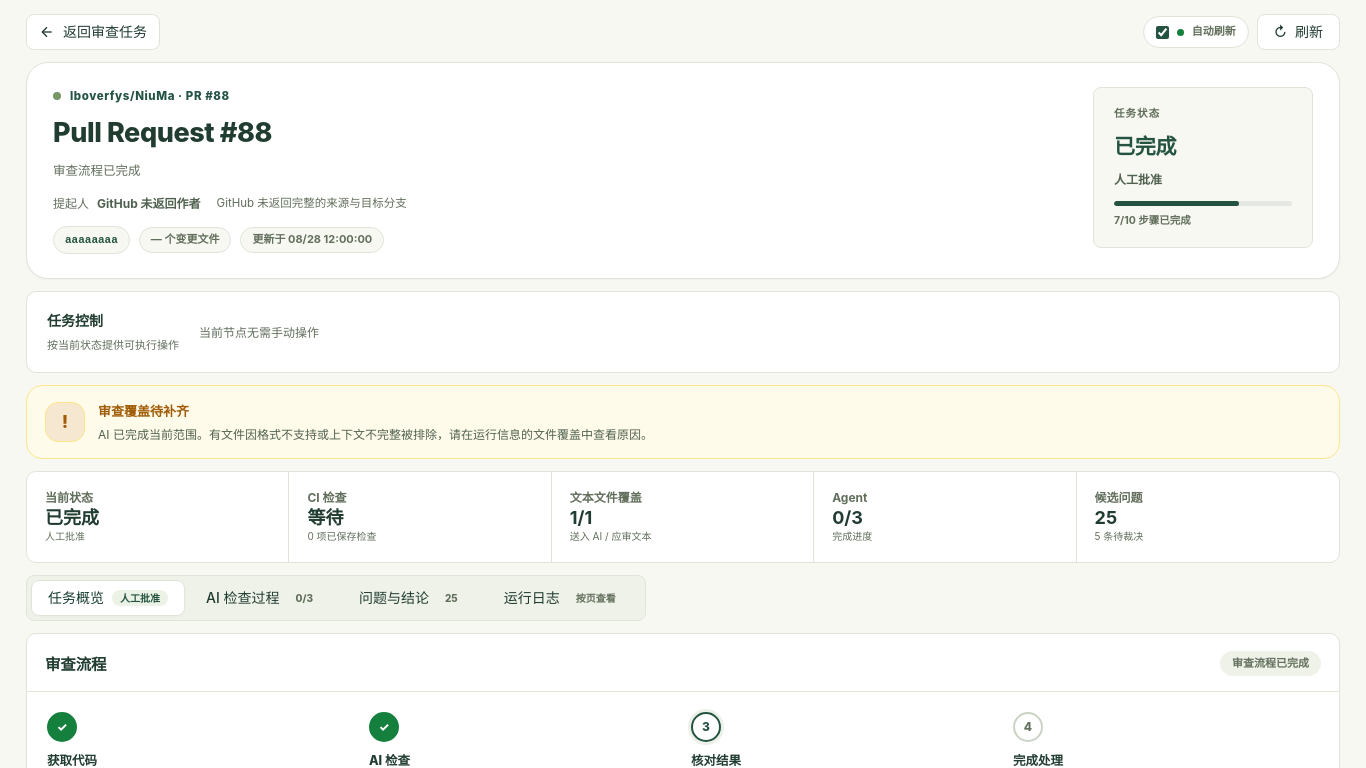
Test: 文件范围不足不会被显示成 Agent 未完成或汇总未执行
Check: the text "审查覆盖待补齐" is shown, box [98,403,189,419]
Click the button "AI 检查过程 0/3" at (264, 598), box [189,580,338,616]
(page scrolled)
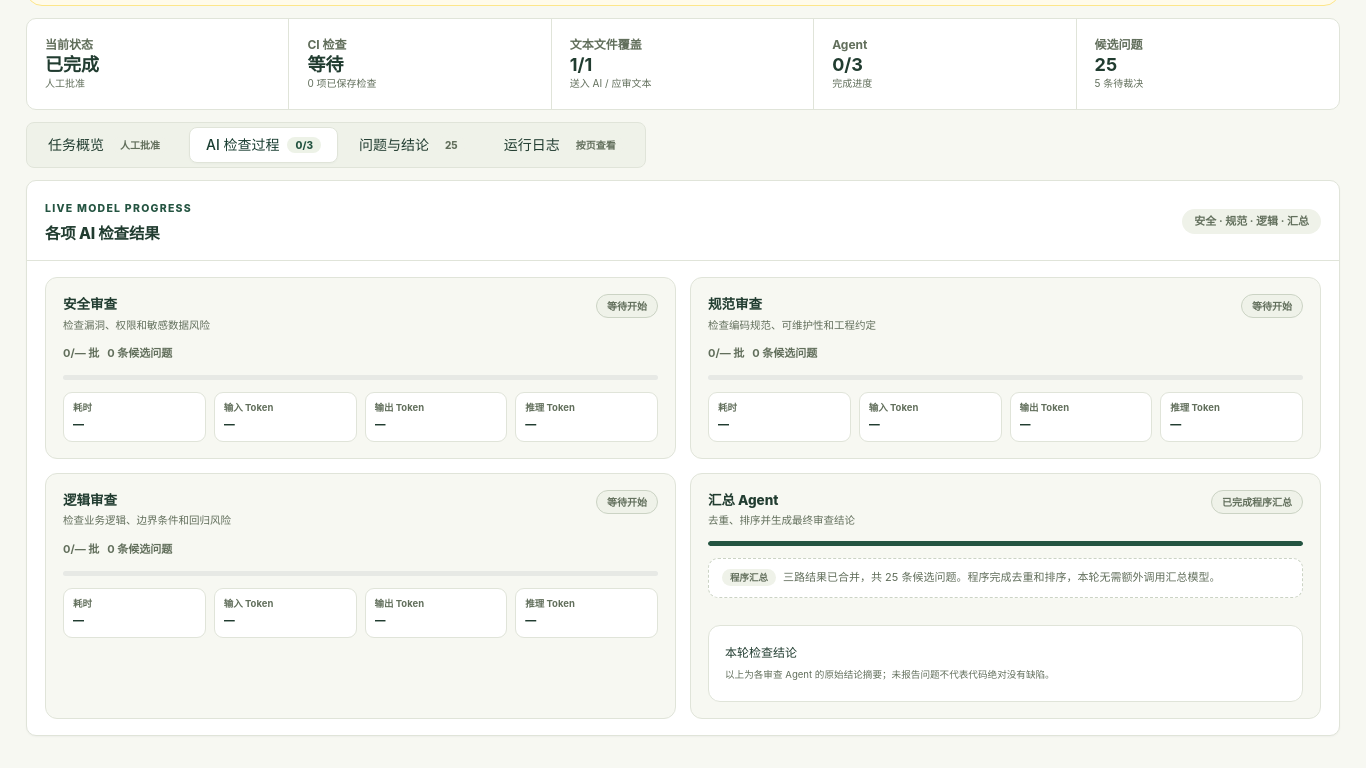
Check: the text "已完成程序汇总" is shown, box [1211,490,1303,514]
